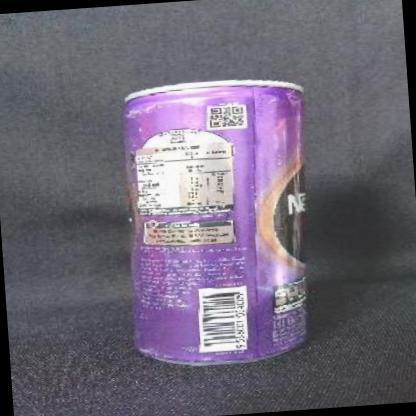alumunium_can: (116, 75, 322, 371)
